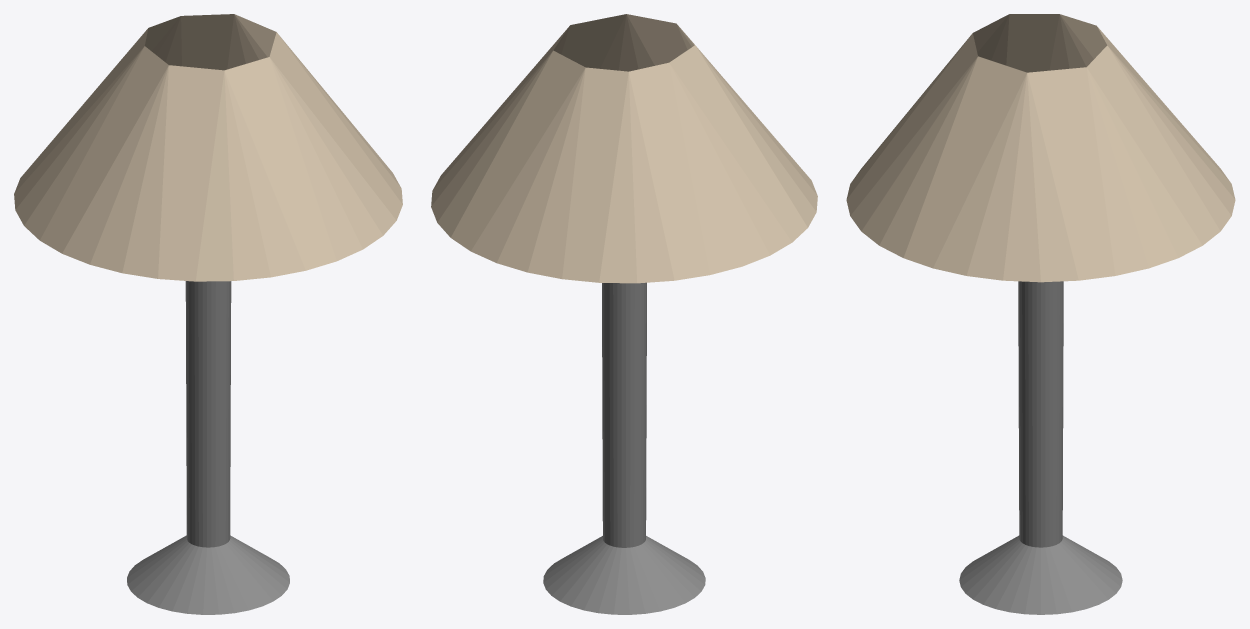
The model's file is tischlampe1.fbx.
3 views of the same model, side by side, from view 1: azimuth 30°, elevation 25°; view 2: azimuth 150°, elevation 25°; view 3: azimuth 270°, elevation 25° (orthographic).
Parts seen in each view (by area): view 1: Cone.001; view 2: Cone.001; view 3: Cone.001.
Boxes of the visible parts, x1=… form: Cone.001: x1=14, y1=14, x2=402, y2=614; Cone.001: x1=431, y1=14, x2=817, y2=614; Cone.001: x1=846, y1=14, x2=1235, y2=614.
Size of the model in its own units: 30 by 45.94 by 30.
